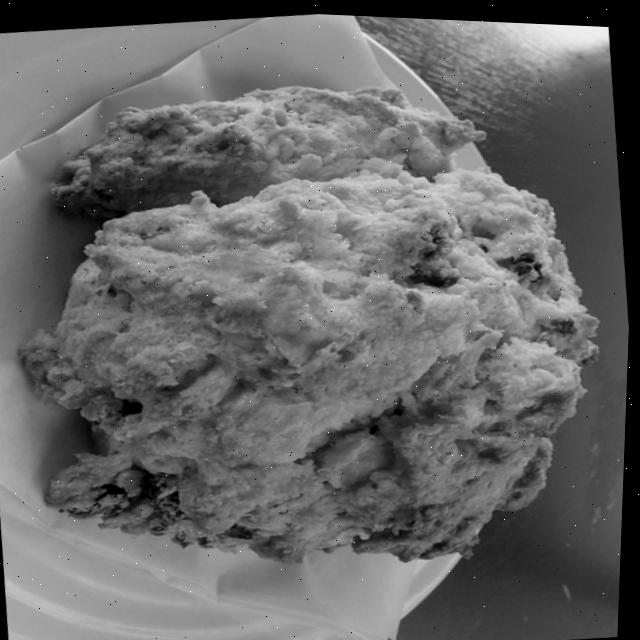面包点心: (0, 3, 640, 640)
